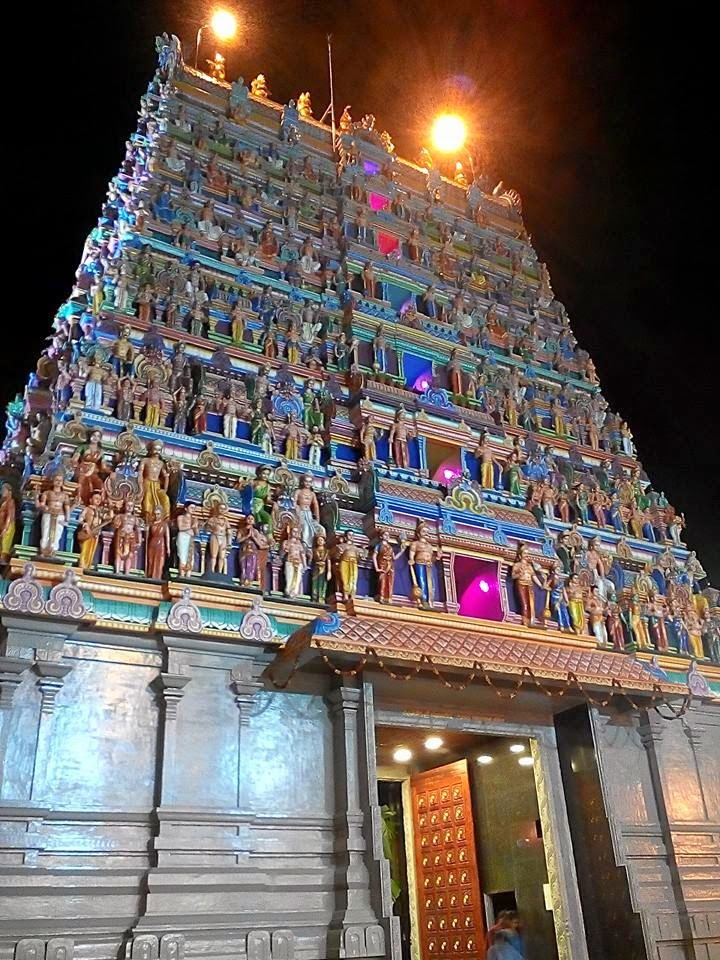Hindu Temple: (16, 36, 720, 942)
